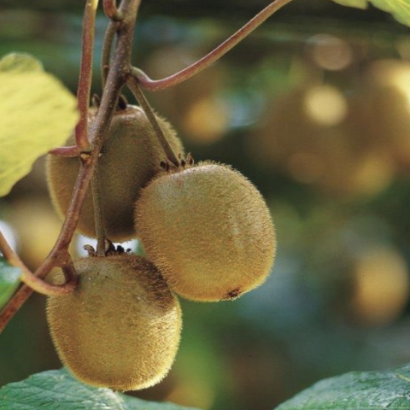kiwi: (35, 239, 204, 394), (48, 98, 197, 253), (130, 158, 288, 303)
